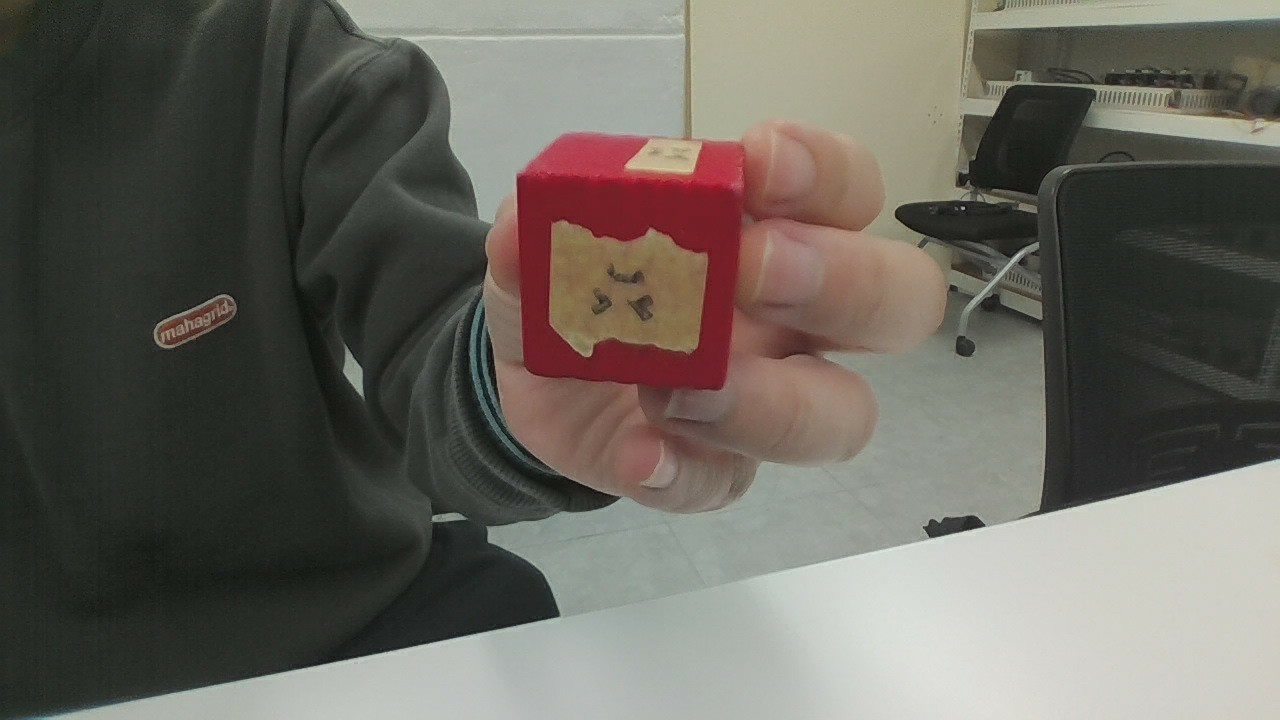Error: (513, 132, 752, 390)
